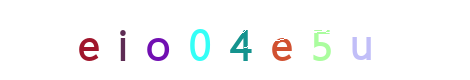0: (195, 0, 275, 80)
4: (202, 0, 282, 80)
5: (245, 0, 325, 80)
E: (60, 0, 140, 80), (215, 0, 295, 80)
I: (117, 0, 197, 80)
O: (159, 0, 239, 80)
U: (273, 0, 353, 80)
